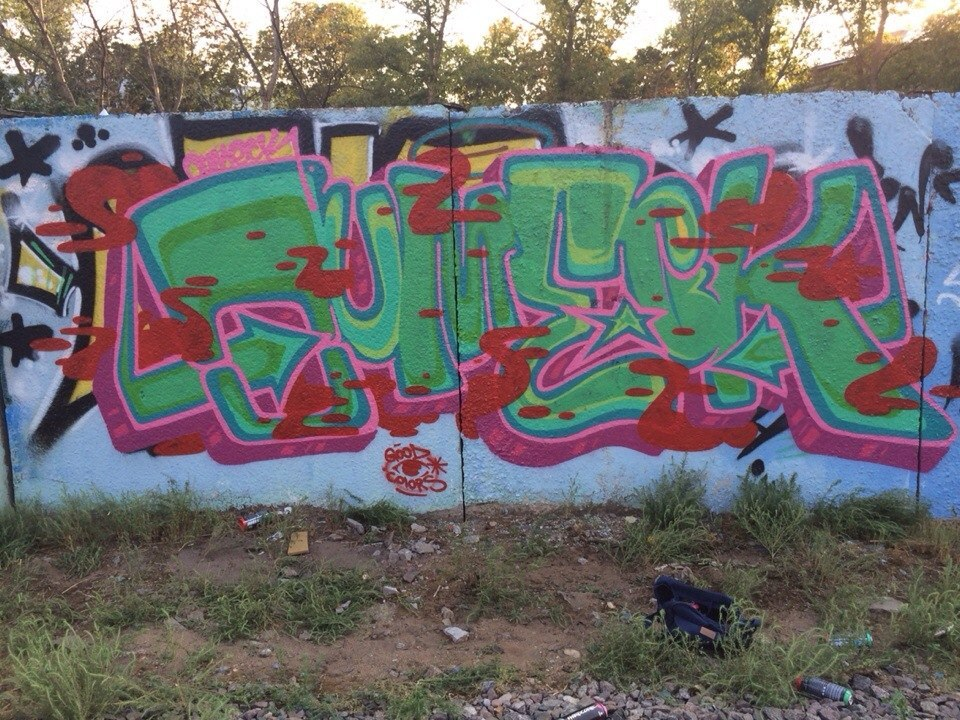graffity: (2, 105, 954, 522)
